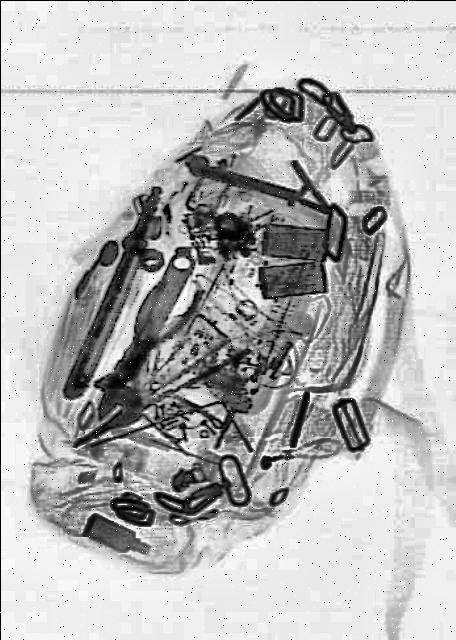Pliers: (70, 330, 240, 452), (104, 255, 206, 400)
Wrench: (90, 235, 206, 443)
